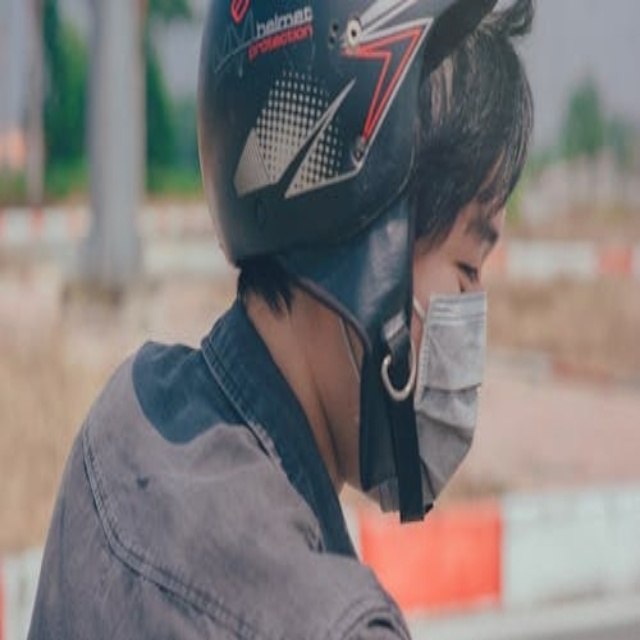Mascara: (392, 274, 489, 515)
Sin_gafas: (416, 210, 507, 294)
